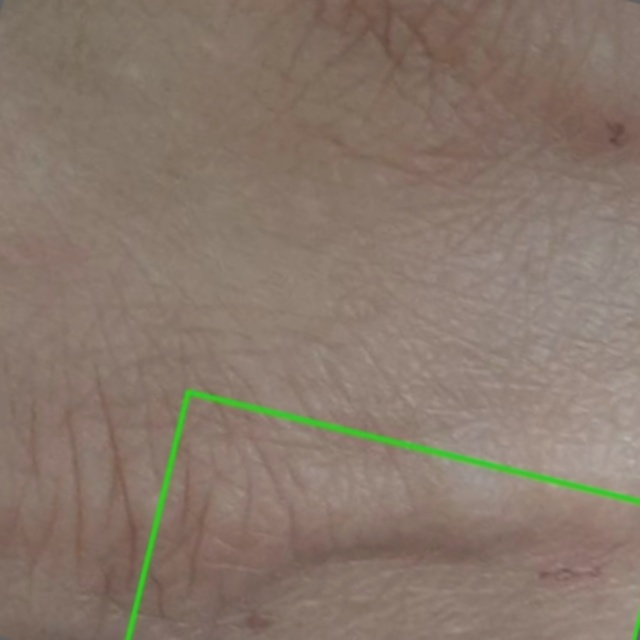Scabies: (126, 390, 639, 639)
